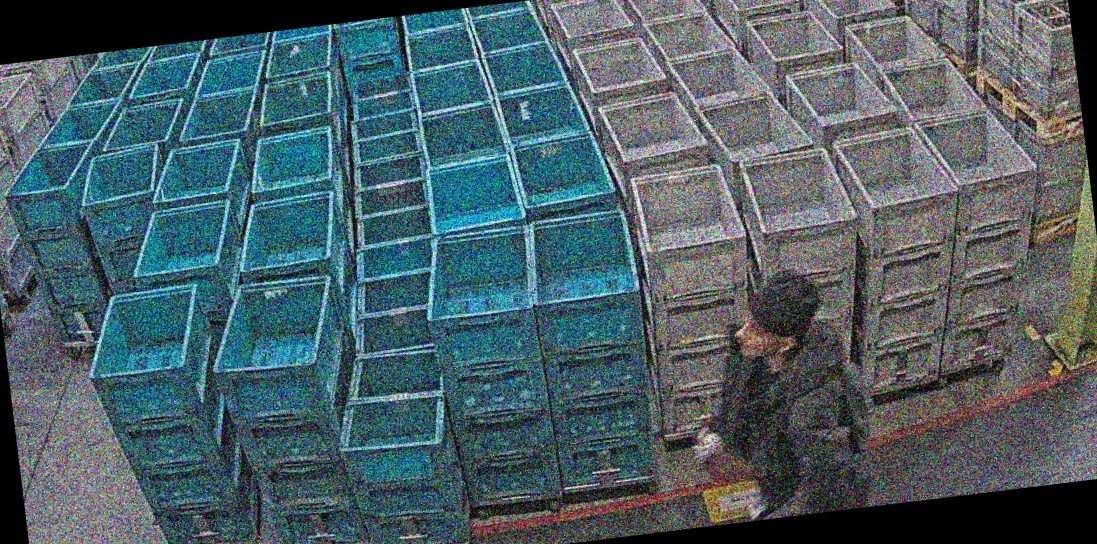4G: (906, 102, 1064, 380), (827, 121, 982, 399), (629, 159, 771, 440), (733, 143, 877, 382)
B4: (77, 278, 265, 544), (202, 271, 371, 544), (414, 222, 564, 514), (521, 208, 665, 493), (74, 143, 176, 296)
B8: (327, 345, 477, 544)
